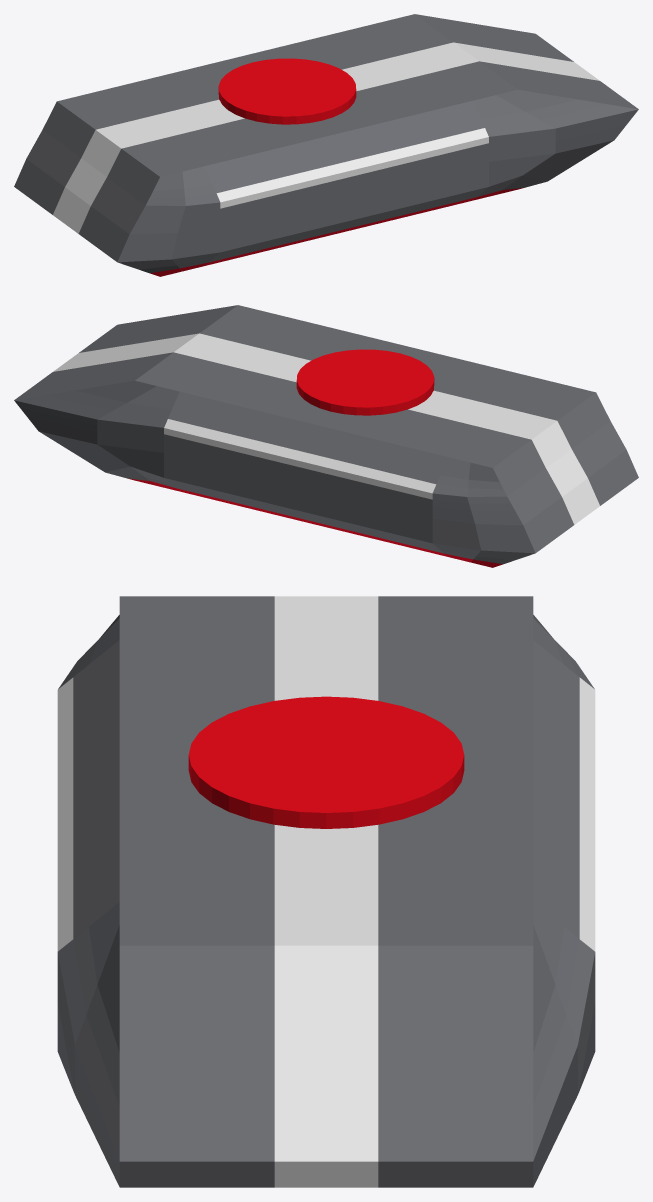
Rendered from Tank_Chassis.fbx.
The picture shows the model from 3 angles, top to bottom: view 1: azimuth 30°, elevation 25°; view 2: azimuth 150°, elevation 25°; view 3: azimuth 270°, elevation 25°; orthographic projection. The views are drawn at different scales.
Parts seen in each view (by area): view 1: Chassis; view 2: Chassis; view 3: Chassis.
Part boxes in pixels (x1,y1,x2,y2): Chassis: (14, 14, 638, 276); Chassis: (14, 305, 638, 567); Chassis: (57, 596, 595, 1187).
Size of the model in its own units: 874 by 173 by 390.
